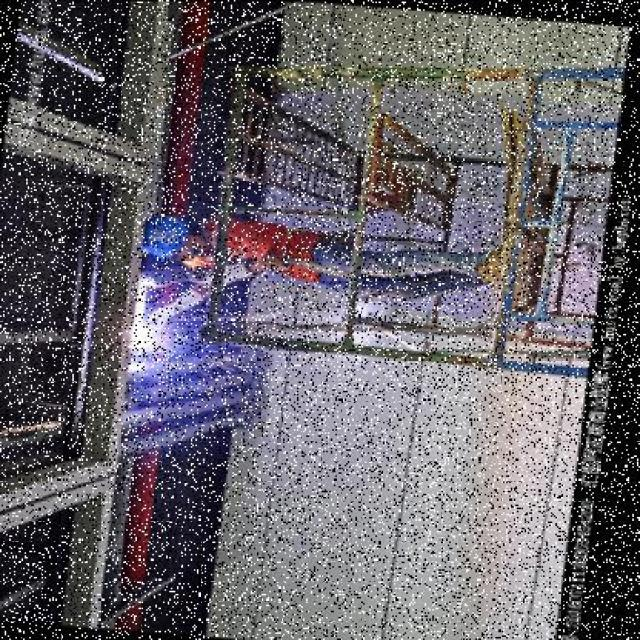helmet: (132, 206, 190, 258)
